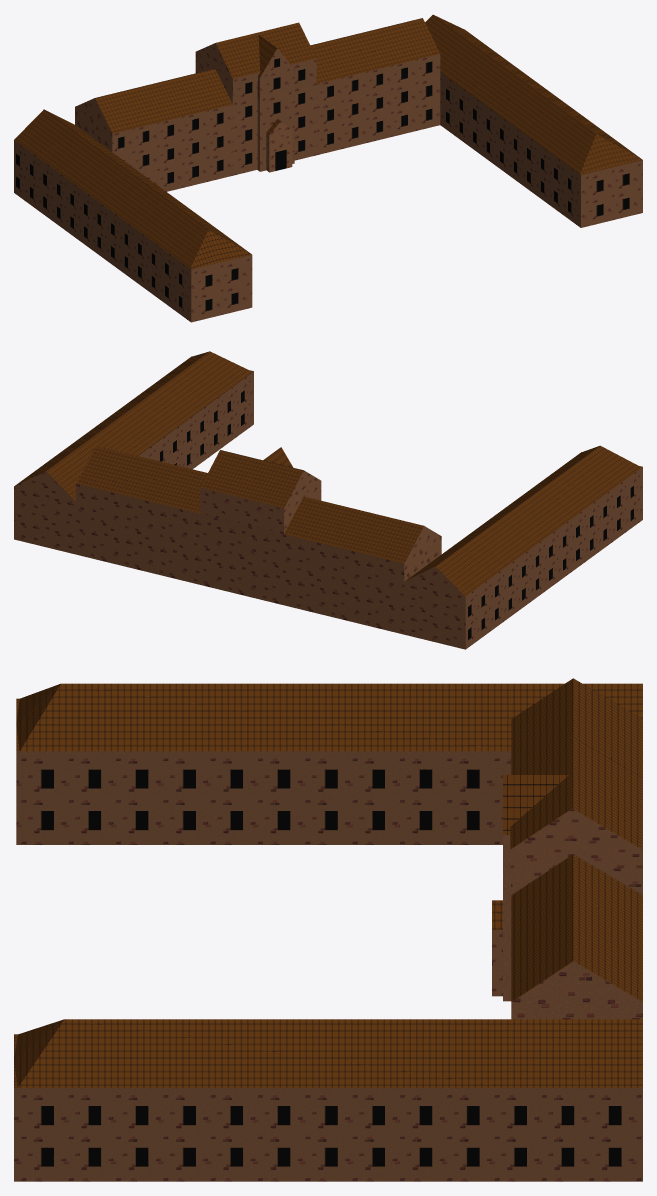
The model's file is willets.fbx.
3 renders of one model, top to bottom at view 1: azimuth 30°, elevation 25°; view 2: azimuth 150°, elevation 25°; view 3: azimuth 270°, elevation 25°, orthographic. The views are drawn at different scales.
Parts seen in each view (by area): view 1: Mesh; view 2: Mesh; view 3: Mesh.
Boxes of the visible parts, <box> form: Mesh: <box>14,14,642,322</box>; Mesh: <box>14,351,642,649</box>; Mesh: <box>14,678,642,1181</box>.
Size of the model in its own units: 47.99 by 12.27 by 32.76.
Materials: 9 (7 with a texture image).
